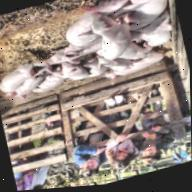boar: (0, 0, 185, 116)
